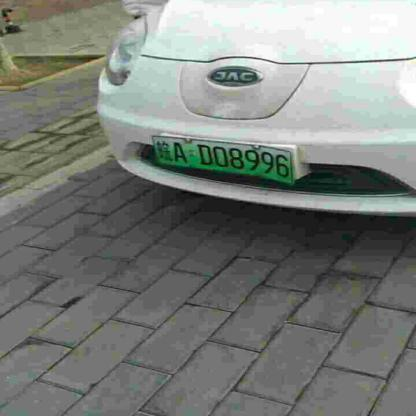lp: (152, 136, 292, 184)
